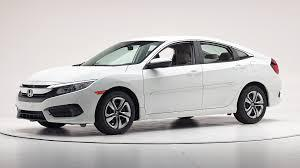fender-dent: (90, 71, 145, 102)
